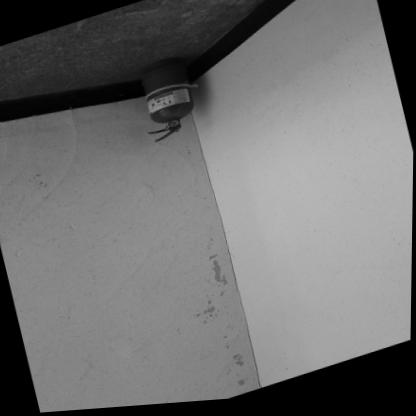FE: (128, 54, 202, 149)
